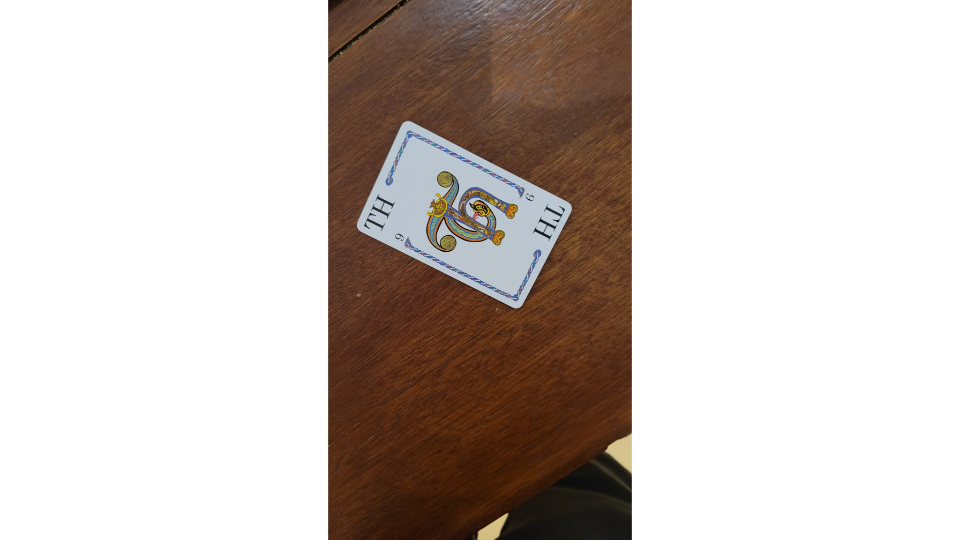TH: (354, 117, 574, 312)
